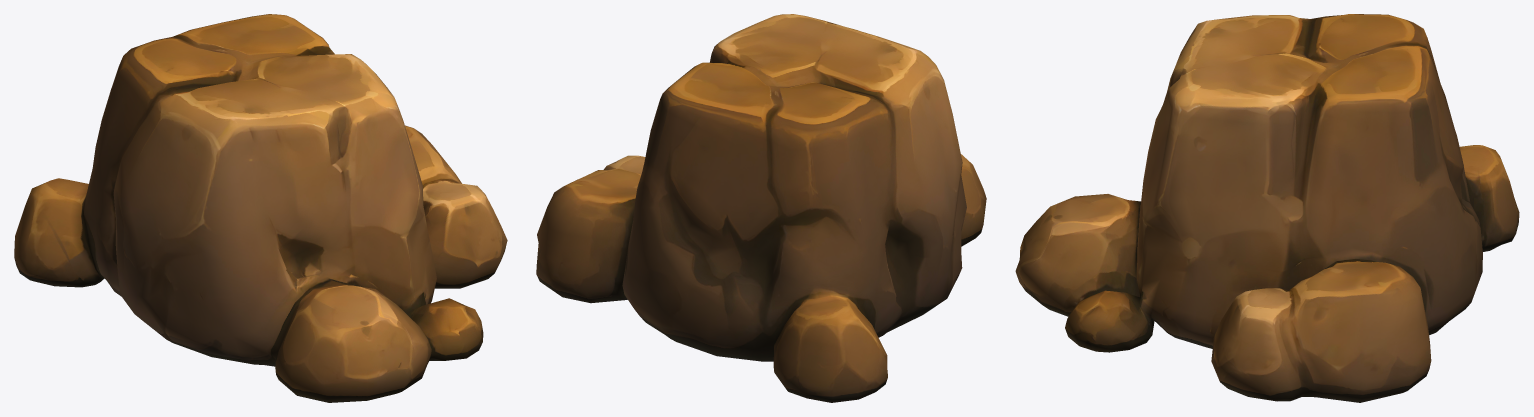
File: pila_de_rocas_chica_2.fbx
3 renders of one model, left to right at view 1: azimuth 30°, elevation 25°; view 2: azimuth 150°, elevation 25°; view 3: azimuth 270°, elevation 25°, orthographic. The views are drawn at different scales.
Visible parts, largest first — view 1: tripo_node_d501b706; view 2: tripo_node_d501b706; view 3: tripo_node_d501b706.
Part boxes in pixels (box(x1,y1,x2,y2)): tripo_node_d501b706: box(14, 14, 507, 402); tripo_node_d501b706: box(536, 14, 986, 402); tripo_node_d501b706: box(1015, 14, 1519, 402).
Bounding box in the file's own units: 90.69 × 52.46 × 99.55.
Materials: 1 (1 with a texture image).
